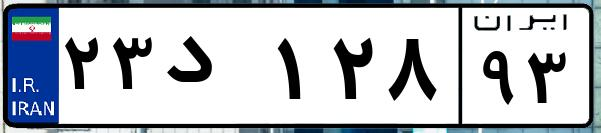1: (270, 28, 330, 110)
2: (330, 28, 385, 110), (57, 26, 110, 100)
3: (525, 38, 570, 115), (110, 28, 158, 98)
8: (385, 28, 445, 110)
9: (475, 38, 525, 113)
د: (158, 20, 270, 120)
